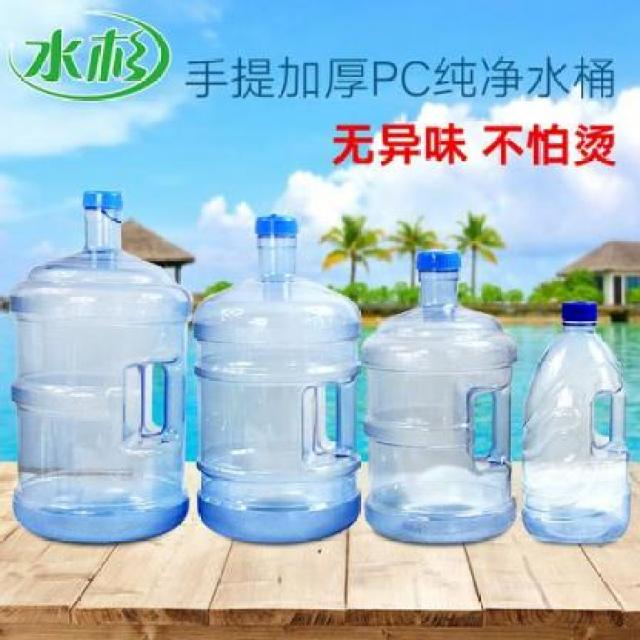coolerbottle: (9, 185, 196, 546), (189, 212, 366, 550), (362, 247, 522, 548), (519, 299, 633, 546)
